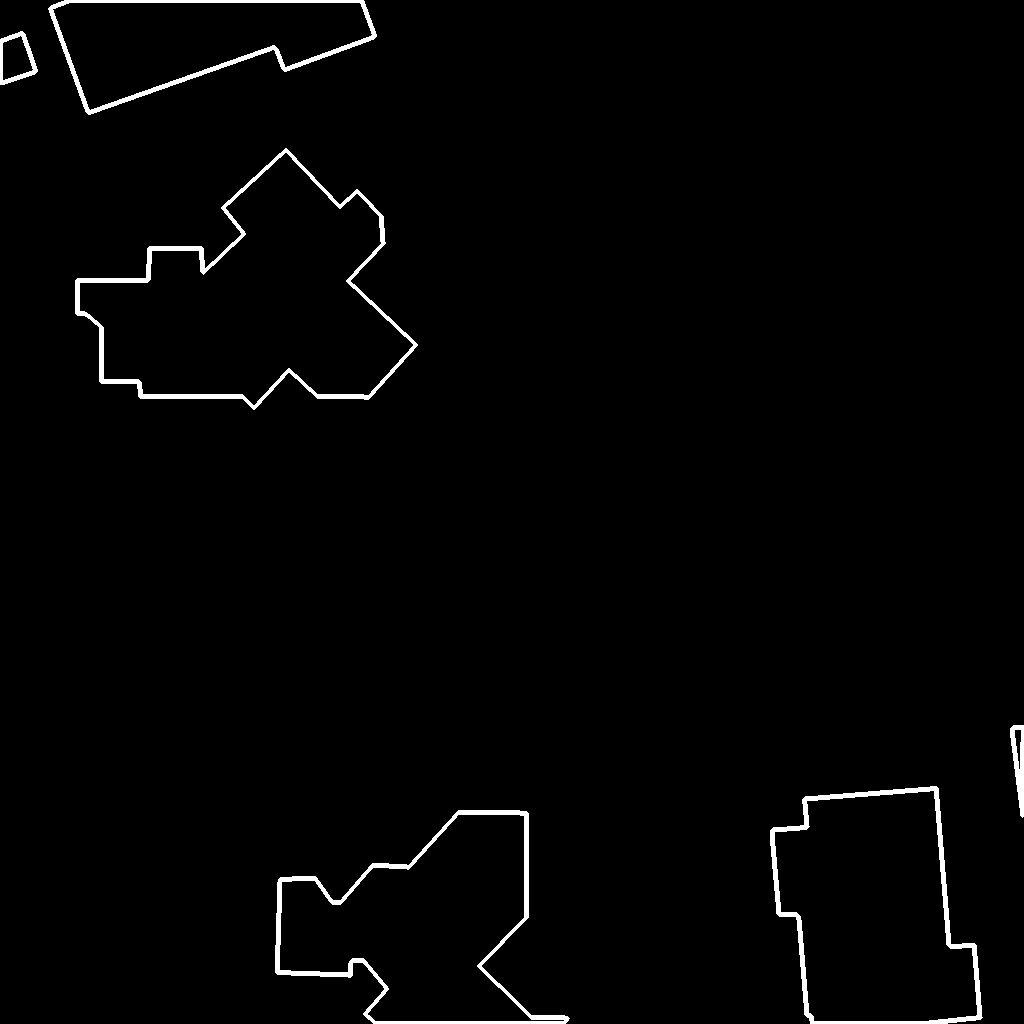building: (77, 150, 417, 409), (277, 812, 570, 1024), (772, 788, 981, 1024), (50, 0, 376, 114), (0, 33, 37, 84), (1012, 727, 1024, 820)
